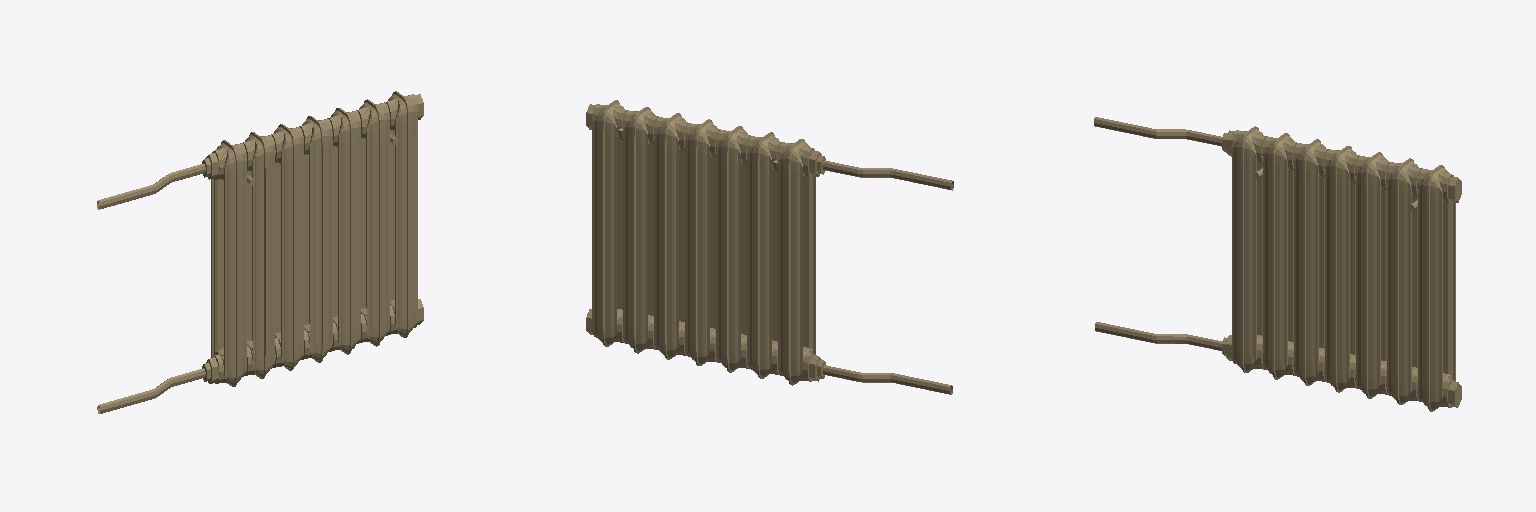
File: Calentador.obj
The picture shows the model from 3 angles: view 1: azimuth 30°, elevation 25°; view 2: azimuth 150°, elevation 25°; view 3: azimuth 330°, elevation 25°; orthographic projection.
Visible parts, largest first — view 1: Radiator_001:Mesh; view 2: Radiator_001:Mesh; view 3: Radiator_001:Mesh.
Boxes of the visible parts, x1,y1,x2,y2 form: Radiator_001:Mesh: [97, 91, 423, 413]; Radiator_001:Mesh: [586, 100, 953, 394]; Radiator_001:Mesh: [1094, 117, 1461, 411].
Size of the model in its own units: 1.7 by 1.14 by 0.2566.